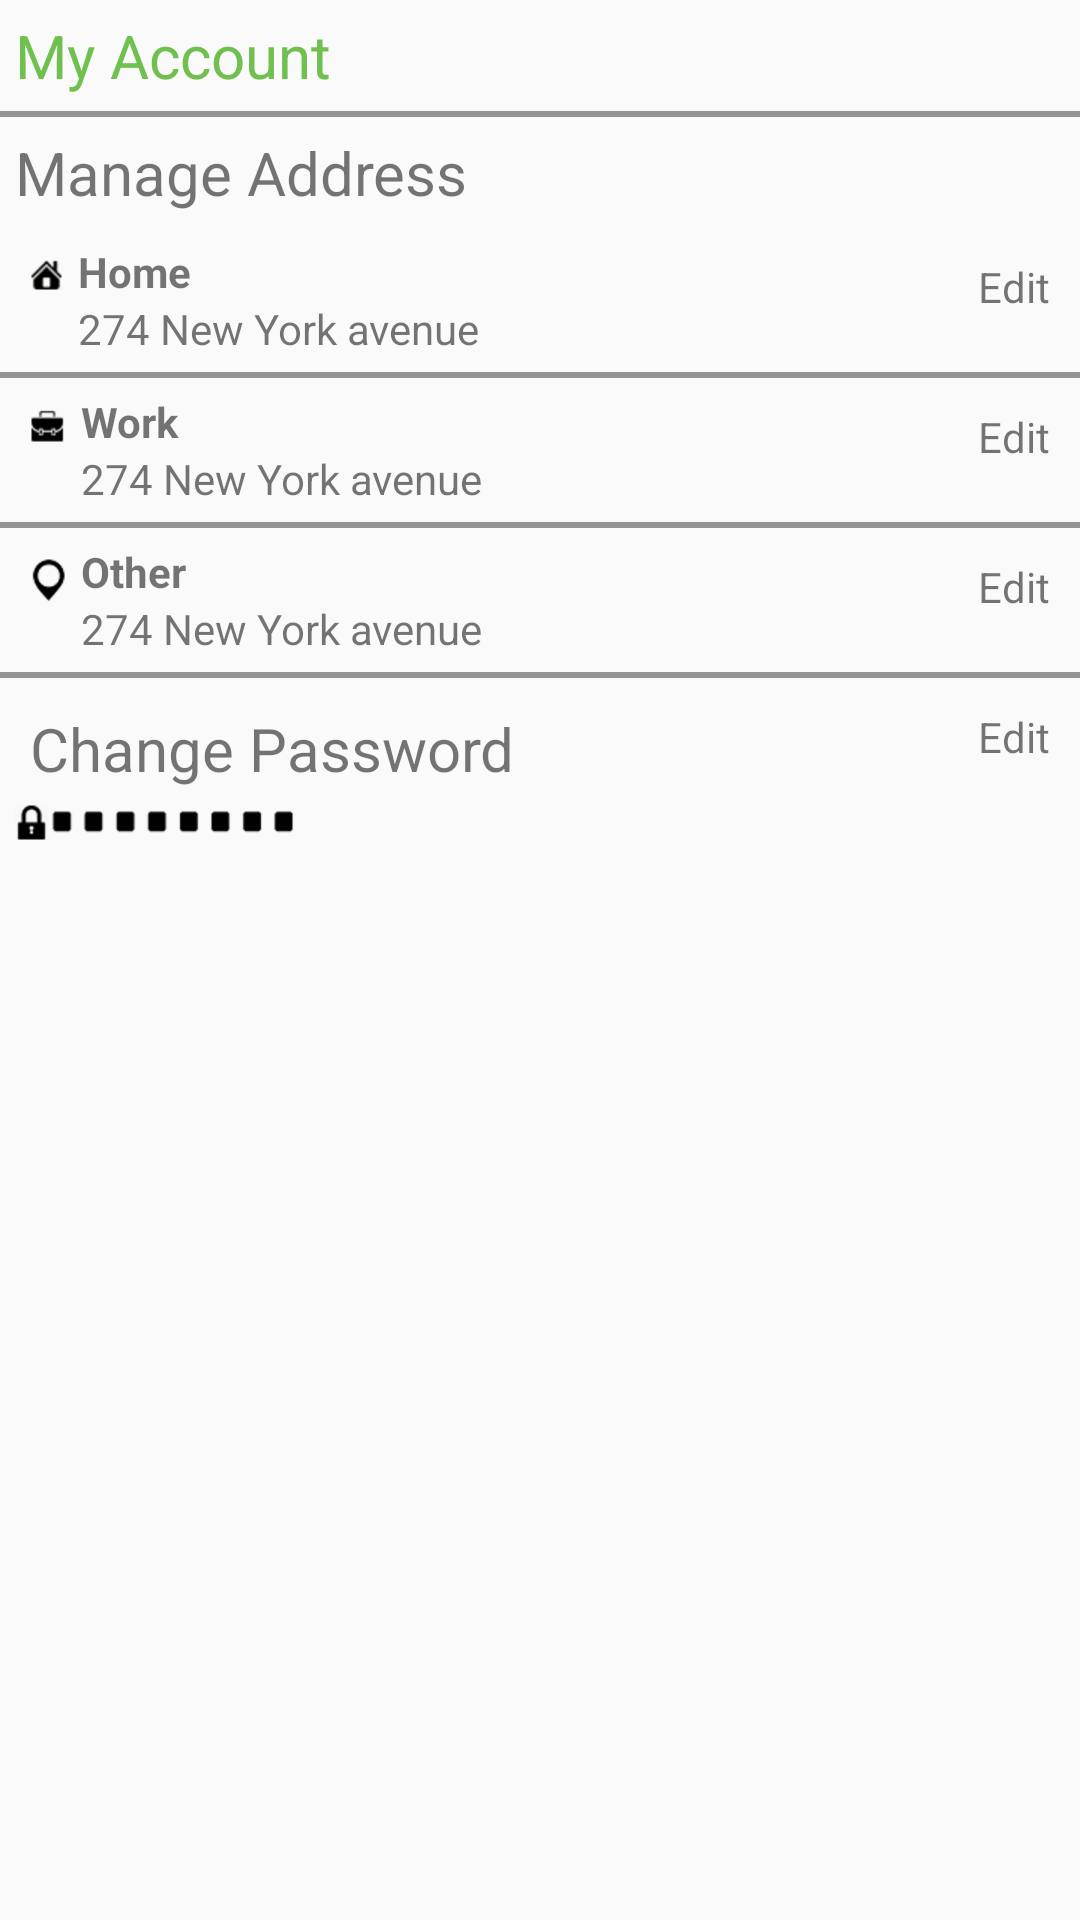

Icon click points for this 1080×1920 phone screenshot, format (x=x, y=y):
lock: (x=31, y=822)
